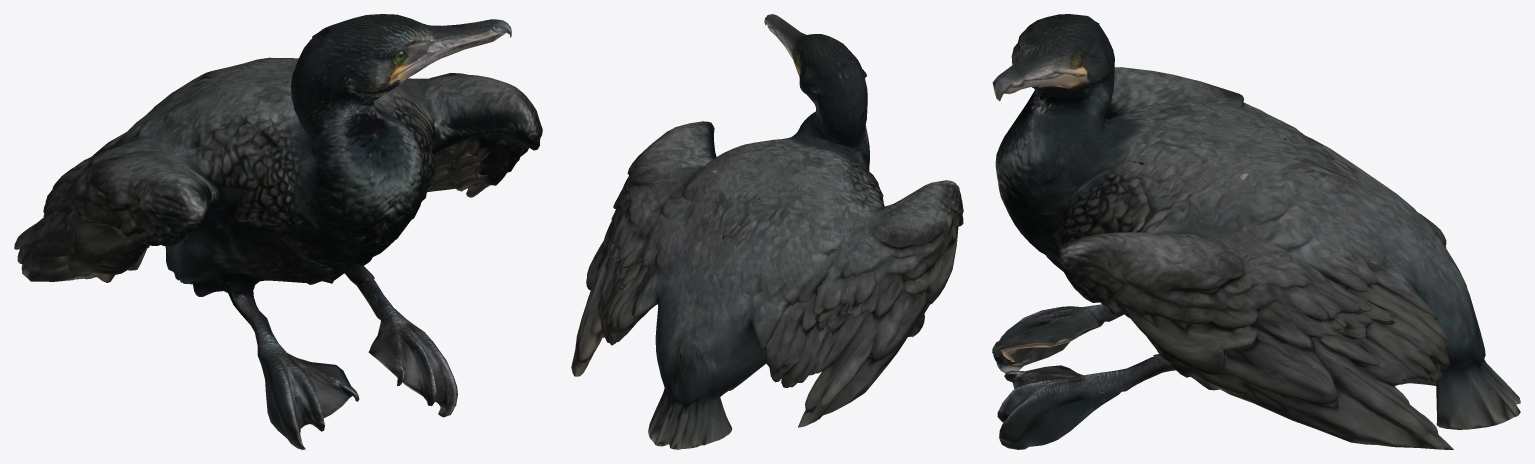
Rendered from cormorant.glb.
3 renders of one model, left to right at view 1: azimuth 30°, elevation 25°; view 2: azimuth 150°, elevation 25°; view 3: azimuth 270°, elevation 25°, orthographic. The views are drawn at different scales.
Visible parts, largest first — view 1: Mesh; view 2: Mesh; view 3: Mesh.
Boxes of the visible parts, x1,y1,x2,y2 form: Mesh: (14, 14, 542, 449); Mesh: (571, 14, 963, 449); Mesh: (992, 14, 1520, 449).
Bounding box in the file's own units: 0.9642 × 0.8448 × 1.
1 material, 1 textured.
